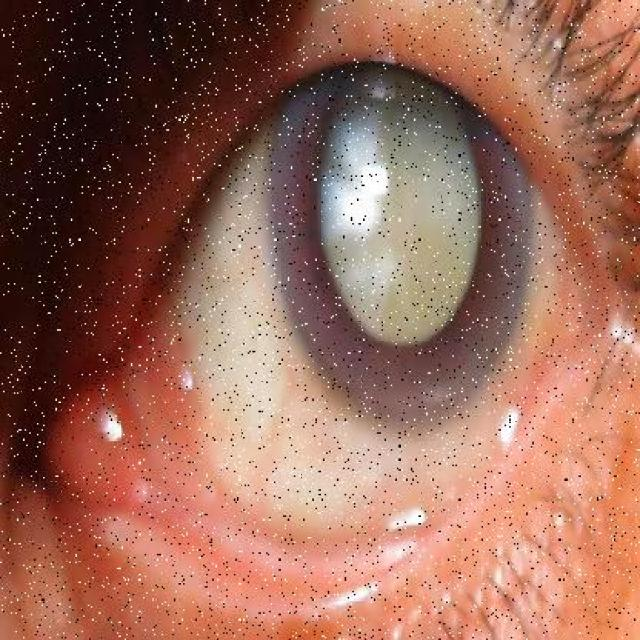Cataract: (256, 47, 546, 447)
